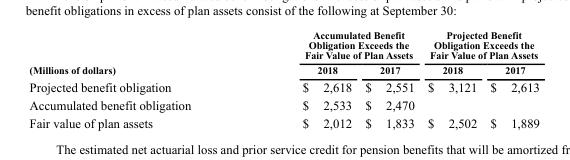table: (28, 28, 538, 129)
table column: (28, 28, 246, 129), (246, 28, 357, 129), (357, 28, 420, 129), (420, 28, 482, 129), (482, 28, 538, 129)
table column header: (28, 28, 538, 77)
table row: (28, 28, 538, 62), (28, 77, 538, 95), (28, 95, 538, 113), (28, 113, 538, 129), (28, 62, 538, 77)
table spanning cell: (28, 28, 246, 77), (246, 28, 420, 62), (420, 28, 538, 62)
